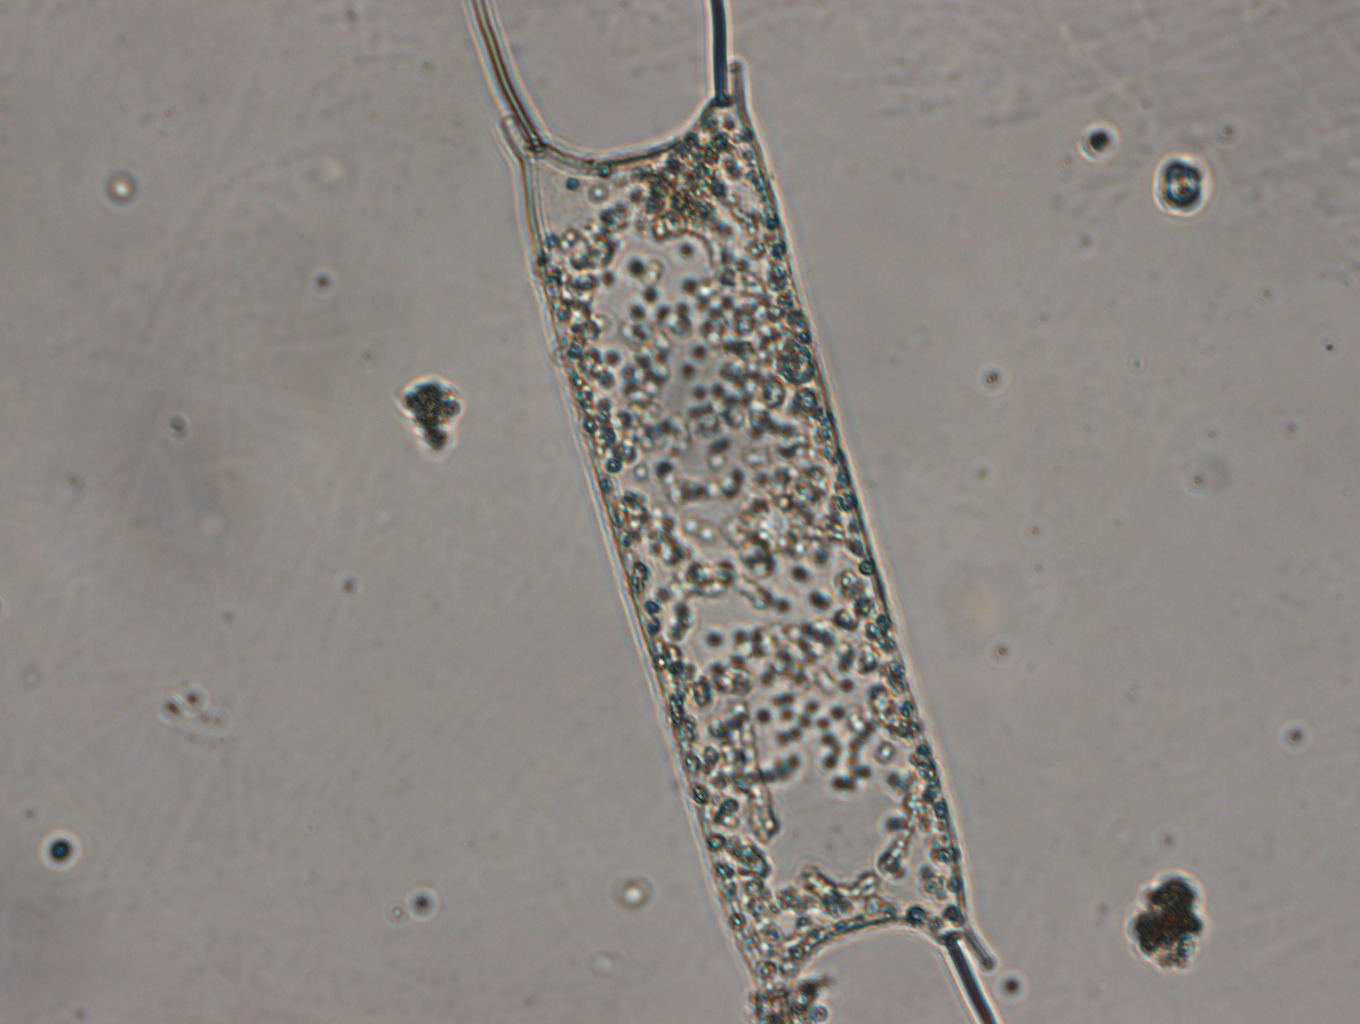biddulphia: (468, 1, 1004, 1024)
